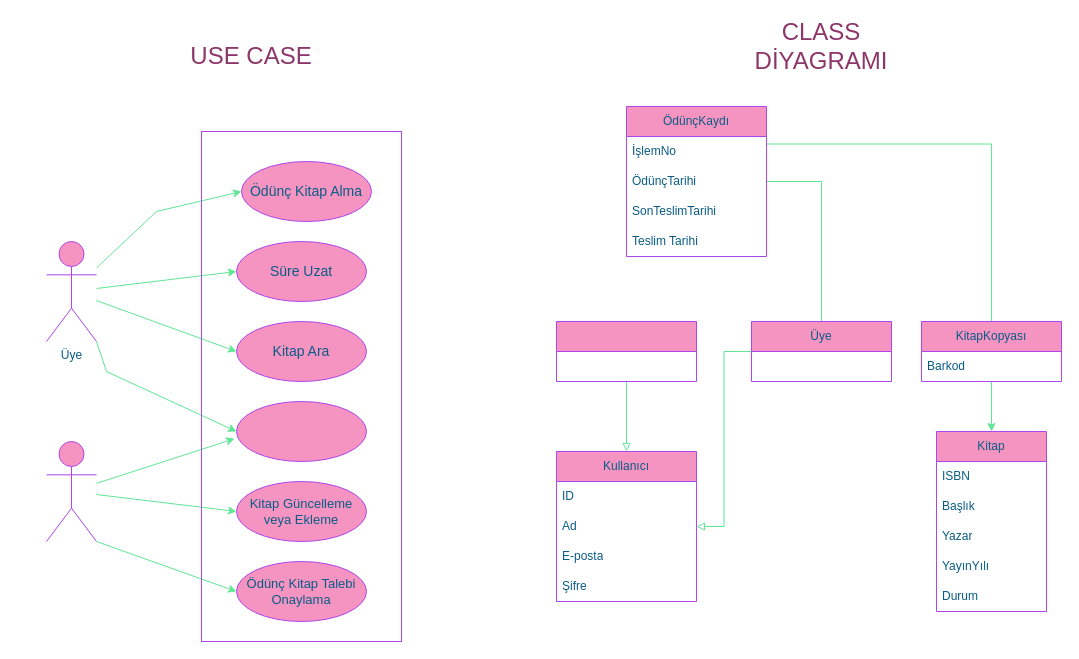
This 1079x659 diagram has some shape labels left out. Here are the shapes that lost their labels. From the top down, the centre of each, then its label:
At pixel 626 351: "KütüphaneGörevlisi".
At pixel 301 431: "Sisteme Giriş".
At pixel 71 491: "Kütüphane Görevlisi".
